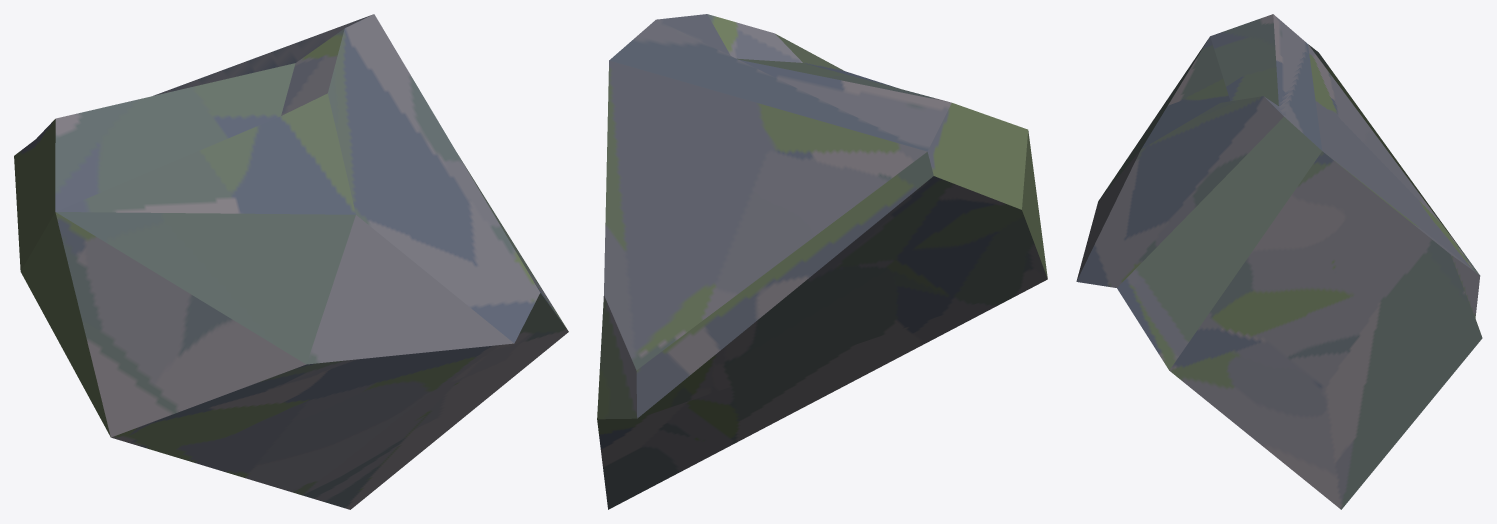
The model's file is T_ROCK06.fbx.
The picture shows the model from 3 angles, left to right: view 1: azimuth 30°, elevation 25°; view 2: azimuth 150°, elevation 25°; view 3: azimuth 270°, elevation 25°; orthographic projection. The views are drawn at different scales.
Visible parts, largest first — view 1: T_ROCK06.001; view 2: T_ROCK06.001; view 3: T_ROCK06.001.
Part boxes in pixels (x1,y1,x2,y2): T_ROCK06.001: (14,14,568,509); T_ROCK06.001: (597,14,1047,509); T_ROCK06.001: (1076,14,1482,509).
Size of the model in its own units: 175 by 180 by 168.
1 material, 1 textured.
